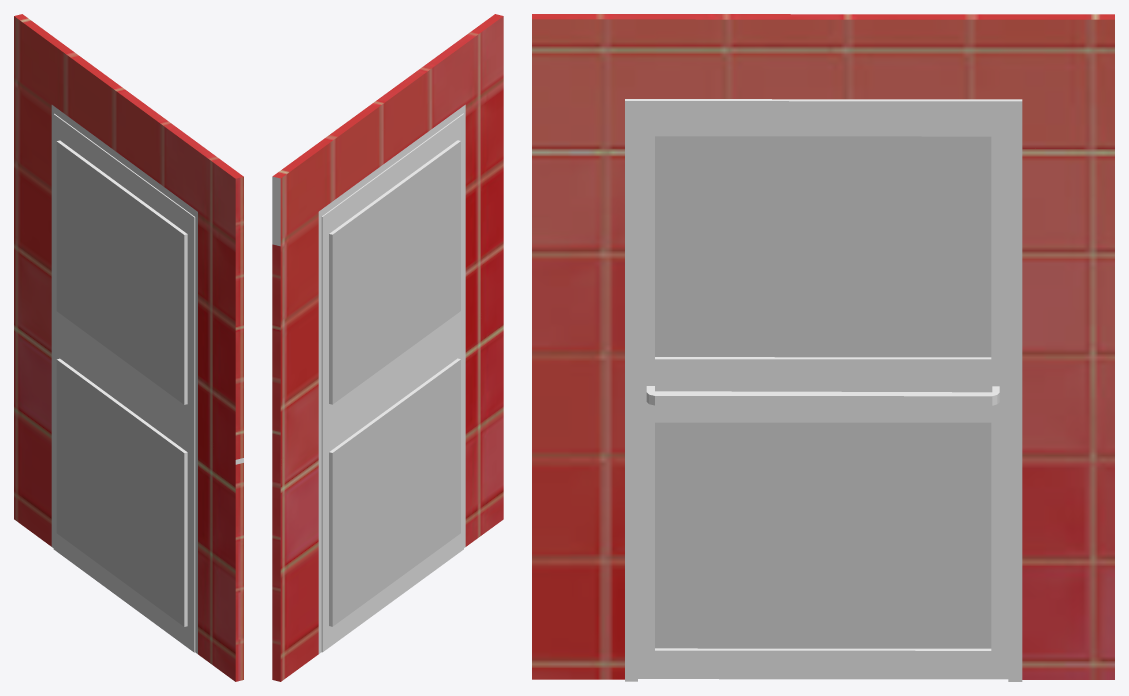
File: Door.fbx
3 renders of one model, left to right at view 1: azimuth 30°, elevation 25°; view 2: azimuth 150°, elevation 25°; view 3: azimuth 270°, elevation 25°, orthographic. The views are drawn at different scales.
Visible parts, largest first — view 1: DoorBase; view 2: DoorBase; view 3: DoorBase.
Boxes of the visible parts, box(x1,y1,x2,y2) form: DoorBase: box(14, 14, 243, 681); DoorBase: box(272, 14, 503, 681); DoorBase: box(532, 14, 1114, 681).
Bounding box in the file's own units: 28.72 × 500 × 400.
